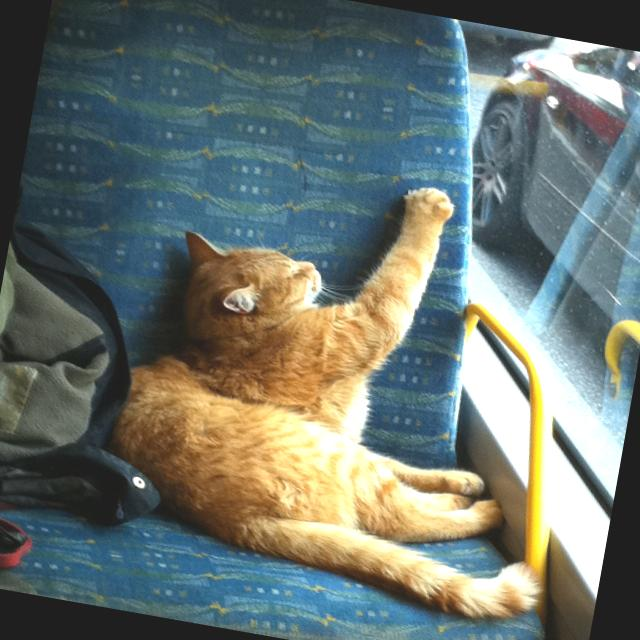Vehicle: (442, 26, 640, 346), (410, 12, 559, 56)
